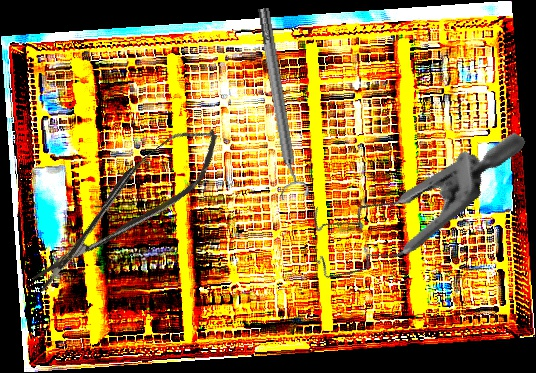Fixation Ring: (249, 5, 311, 201)
Micro Scissor: (15, 113, 235, 302)
Speculum: (289, 66, 527, 331)
